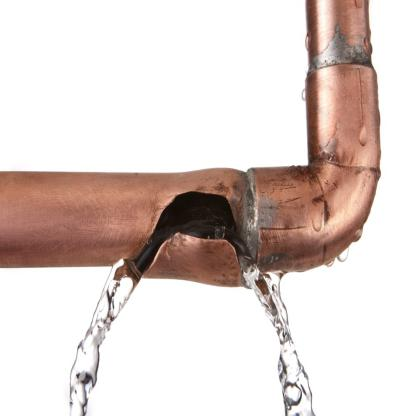burst: (115, 181, 277, 309)
